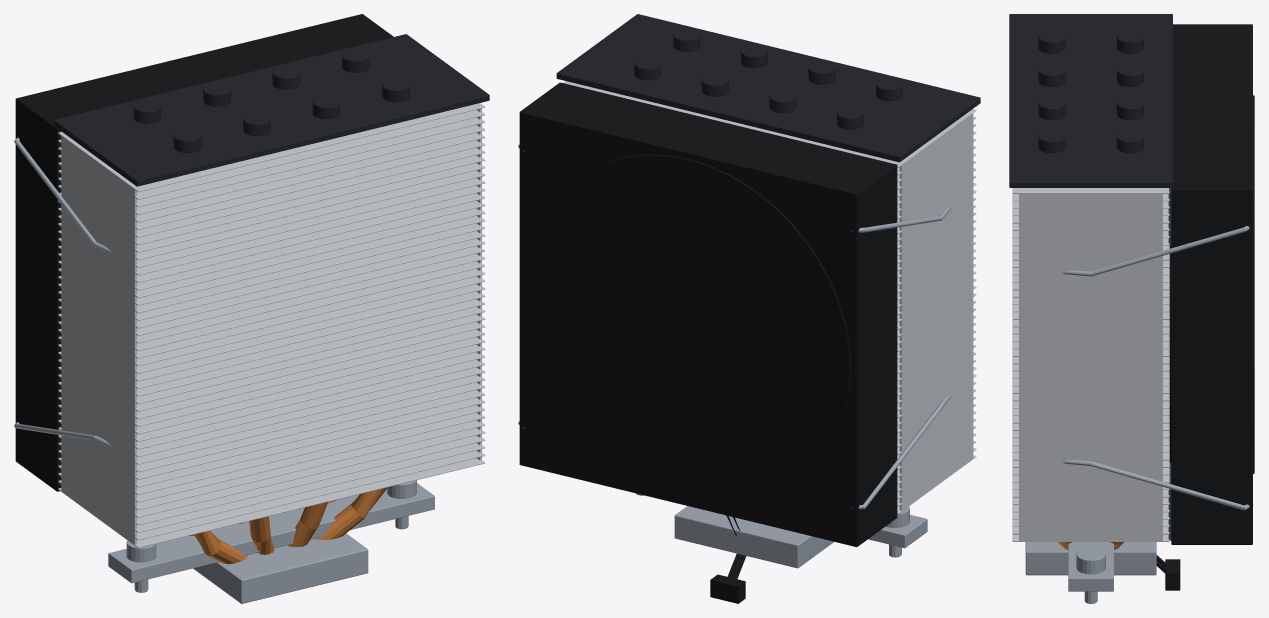
File: cpu-cooler-air.lod0.glb
3 views of the same model, side by side, from view 1: azimuth 30°, elevation 25°; view 2: azimuth 150°, elevation 25°; view 3: azimuth 270°, elevation 25° (orthographic). The views are drawn at different scales.
Parts seen in each view (by area): view 1: P01_heatsink_fins, P09_top_fin_shroud, P04_cooling_fan, P06_mounting_bracket, P03_copper_base, P02_heatpipes, P05_fan_clips; view 2: P04_cooling_fan, P09_top_fin_shroud, P01_heatsink_fins, P03_copper_base, P06_mounting_bracket, P05_fan_clips, P08_pwm_cable; view 3: P01_heatsink_fins, P04_cooling_fan, P09_top_fin_shroud, P03_copper_base, P06_mounting_bracket, P05_fan_clips, P08_pwm_cable, P07_anti_vibration_pads.
Part boxes in pixels (x1=…): P01_heatsink_fins: x1=58, y1=103, x2=485, y2=547; P09_top_fin_shroud: x1=53, y1=34, x2=489, y2=186; P04_cooling_fan: x1=15, y1=14, x2=393, y2=491; P06_mounting_bracket: x1=108, y1=480, x2=434, y2=592; P03_copper_base: x1=193, y1=533, x2=368, y2=603; P02_heatpipes: x1=189, y1=487, x2=387, y2=564; P05_fan_clips: x1=14, y1=137, x2=112, y2=448; P04_cooling_fan: x1=519, y1=82, x2=897, y2=547; P09_top_fin_shroud: x1=556, y1=14, x2=980, y2=162; P01_heatsink_fins: x1=563, y1=81, x2=976, y2=513; P03_copper_base: x1=674, y1=506, x2=833, y2=568; P06_mounting_bracket: x1=636, y1=493, x2=927, y2=557; P05_fan_clips: x1=518, y1=144, x2=951, y2=509; P08_pwm_cable: x1=710, y1=515, x2=746, y2=603; P01_heatsink_fins: x1=1012, y1=188, x2=1169, y2=541; P04_cooling_fan: x1=1169, y1=24, x2=1254, y2=544; P09_top_fin_shroud: x1=1009, y1=14, x2=1172, y2=187; P03_copper_base: x1=1025, y1=542, x2=1156, y2=575; P06_mounting_bracket: x1=1068, y1=542, x2=1113, y2=603; P05_fan_clips: x1=1062, y1=64, x2=1253, y2=510; P08_pwm_cable: x1=1156, y1=555, x2=1180, y2=590; P07_anti_vibration_pads: x1=1168, y1=188, x2=1171, y2=540.
Bounding box in the file's own units: 124 × 168 × 75.
